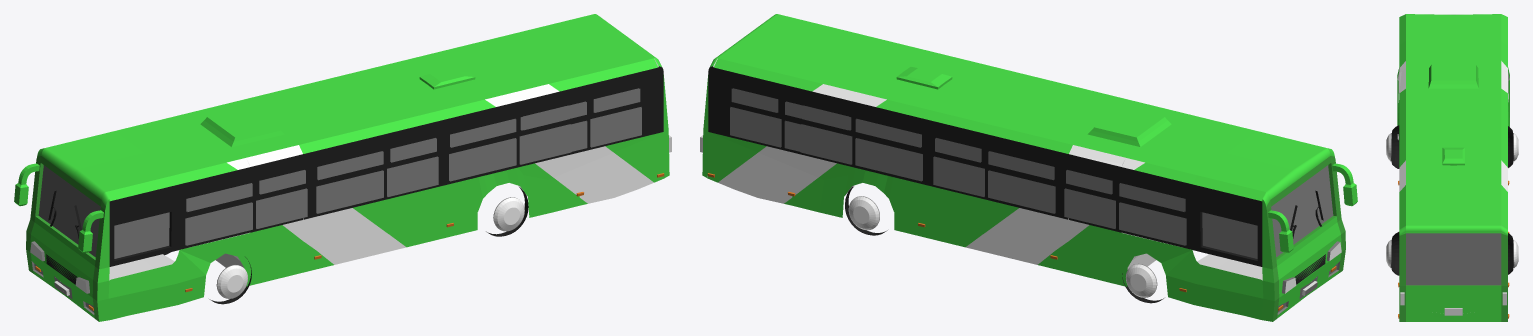
File: bus222.fbx
3 renders of one model, left to right at view 1: azimuth 30°, elevation 25°; view 2: azimuth 150°, elevation 25°; view 3: azimuth 270°, elevation 25°, orthographic. The views are drawn at different scales.
Visible parts, largest first — view 1: Cube, Cube.003, Cube.004; view 2: Cube, Cube.002, Cube.001; view 3: Cube, Cube.003, Cube.004, Cube.002, Cube.001.
Part boxes in pixels (<box>): Cube: <box>14,14,671,321</box>; Cube.003: <box>486,187,528,236</box>; Cube.004: <box>209,257,251,304</box>; Cube: <box>700,14,1357,321</box>; Cube.002: <box>845,186,887,235</box>; Cube.001: <box>1122,263,1163,303</box>; Cube: <box>1397,14,1509,321</box>; Cube.003: <box>1386,232,1399,275</box>; Cube.004: <box>1386,125,1399,168</box>; Cube.002: <box>1508,233,1518,274</box>; Cube.001: <box>1508,126,1518,167</box>.
Size of the model in its own units: 1020 by 238 by 251.
